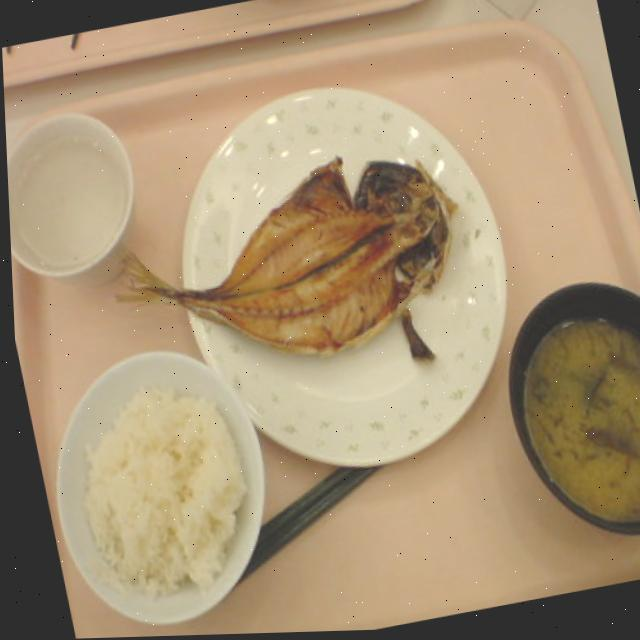米饭主食: (15, 324, 290, 640)
